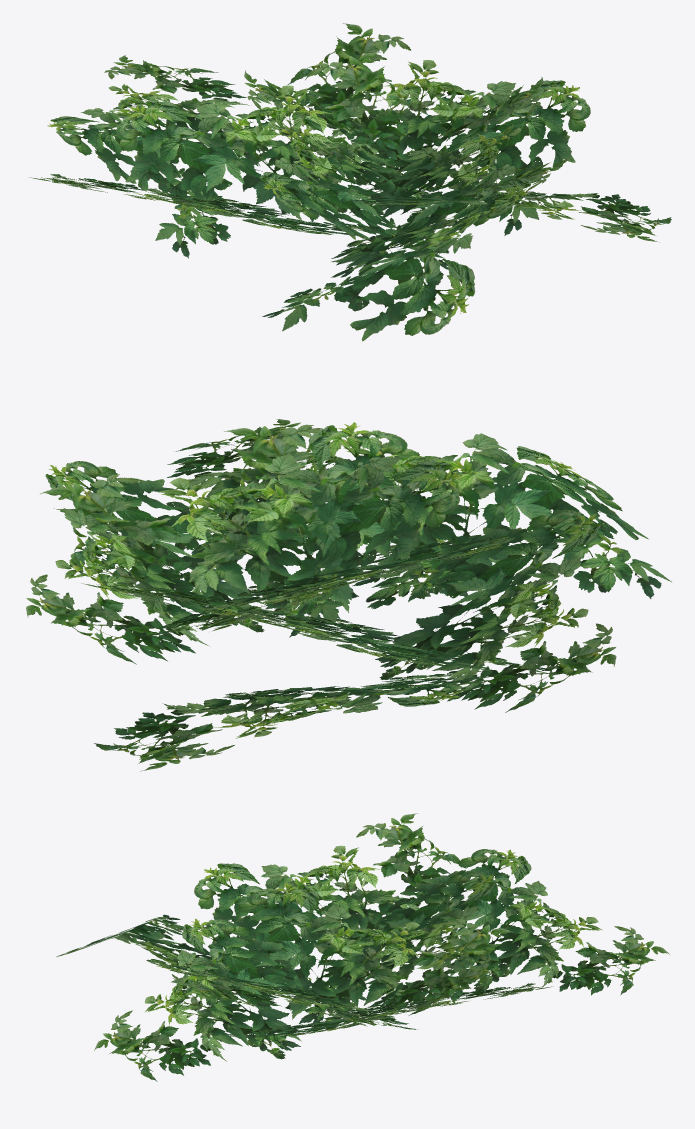
File: grass_mesh_12.fbx
3 views of the same model, one above another, from view 1: azimuth 30°, elevation 25°; view 2: azimuth 150°, elevation 25°; view 3: azimuth 270°, elevation 25° (orthographic). The views are drawn at different scales.
Parts seen in each view (by area): view 1: Polygon; view 2: Polygon; view 3: Polygon.
Part boxes in pixels (left/top/right/bottom): Polygon: left=29, top=23, right=671, bottom=341; Polygon: left=26, top=419, right=671, bottom=771; Polygon: left=56, top=813, right=669, bottom=1081.
Bounding box in the file's own units: 302 × 43.94 × 348.
Materials: 1 (1 with a texture image).
